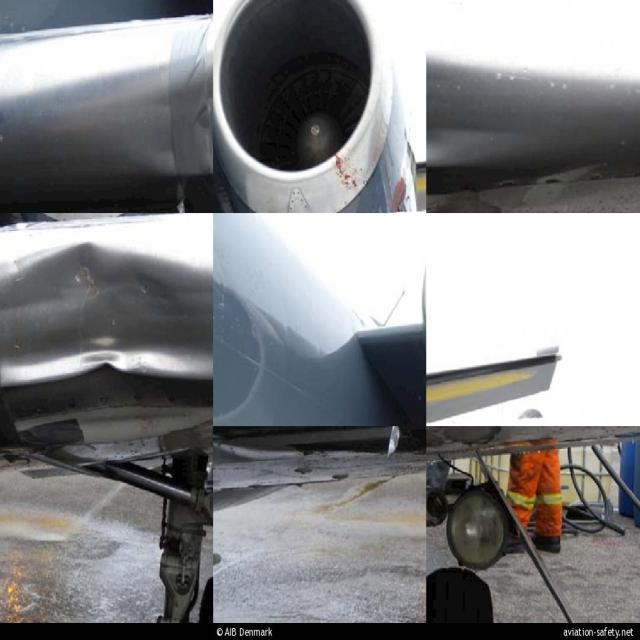dent: (2, 241, 217, 379), (429, 102, 545, 168), (157, 89, 213, 174)
